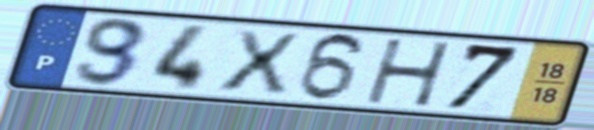4: (146, 22, 214, 95)
6: (296, 30, 375, 104)
7: (440, 41, 526, 112)
9: (71, 16, 154, 89)
H: (363, 37, 456, 109)
X: (214, 27, 305, 96)
